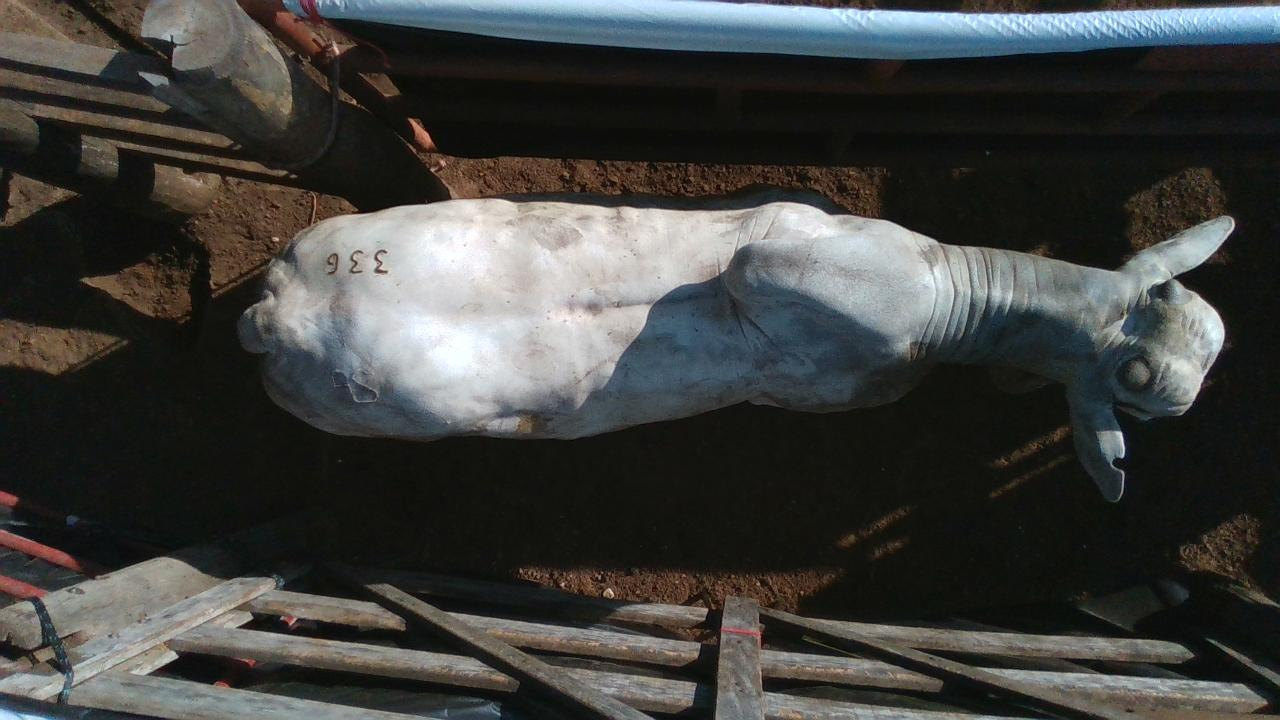cattle: (235, 188, 1236, 503)
